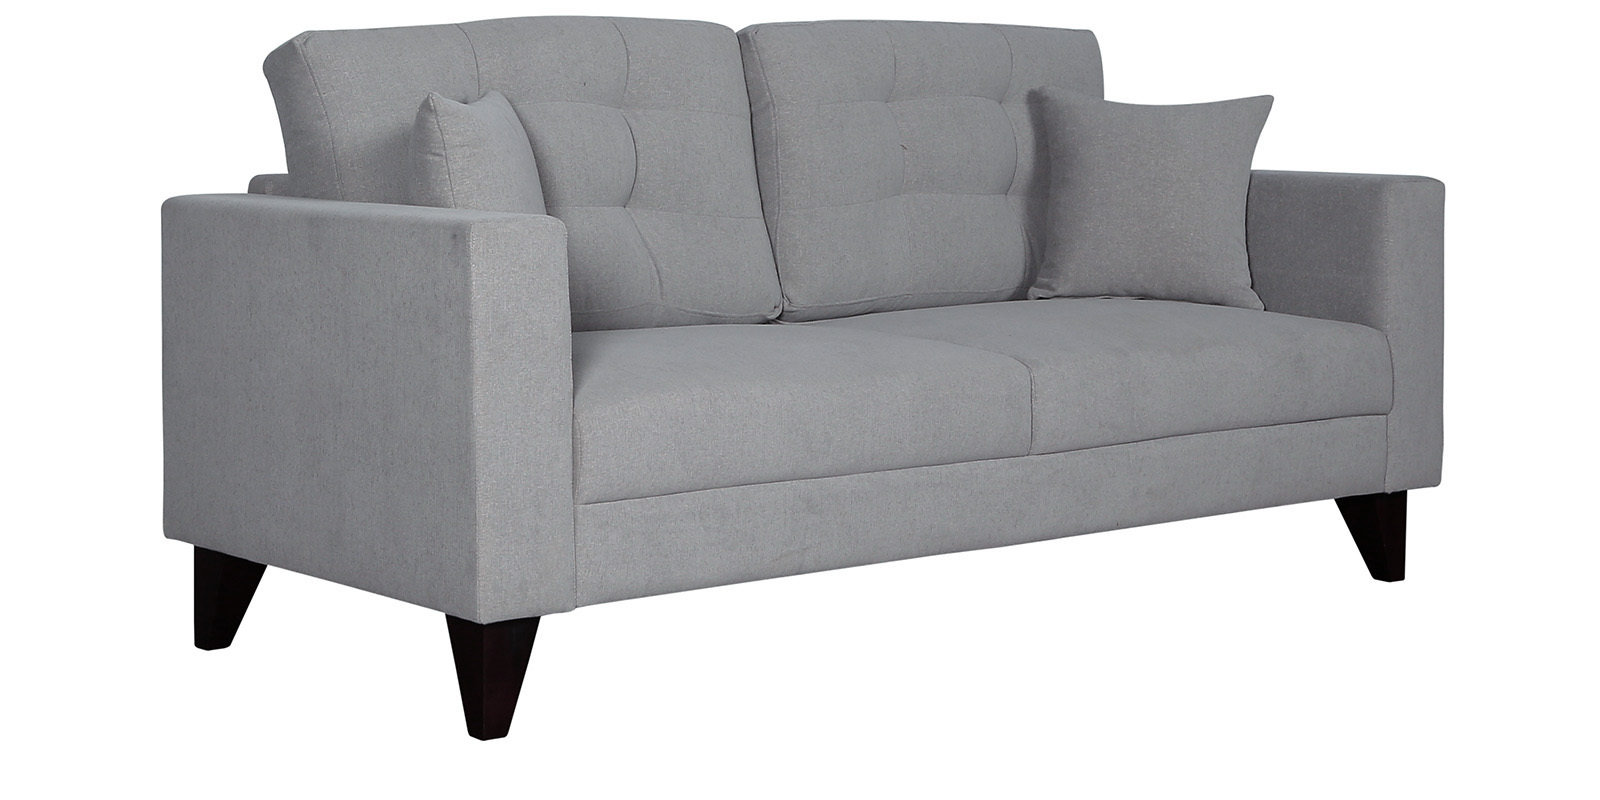Alfredo Three Seater Sofa in Ash Grey Colour by CasaCraft: (131, 13, 1453, 720)
